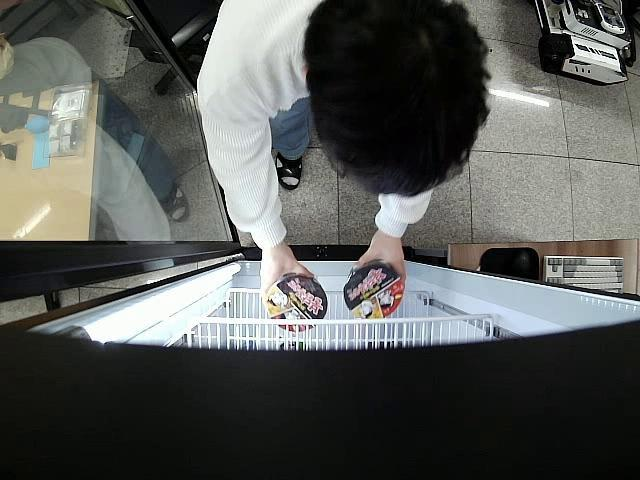07_buldak_L: (264, 271, 328, 332), (344, 260, 406, 321)
